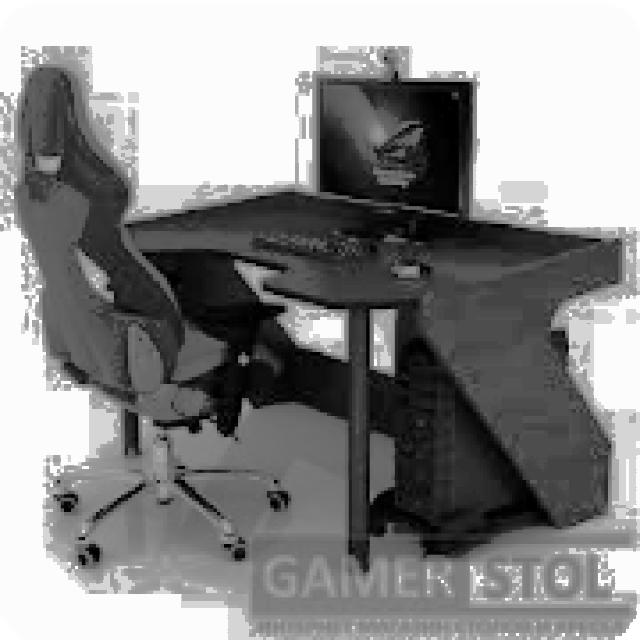book: (10, 64, 292, 565)
table: (118, 185, 622, 572)
